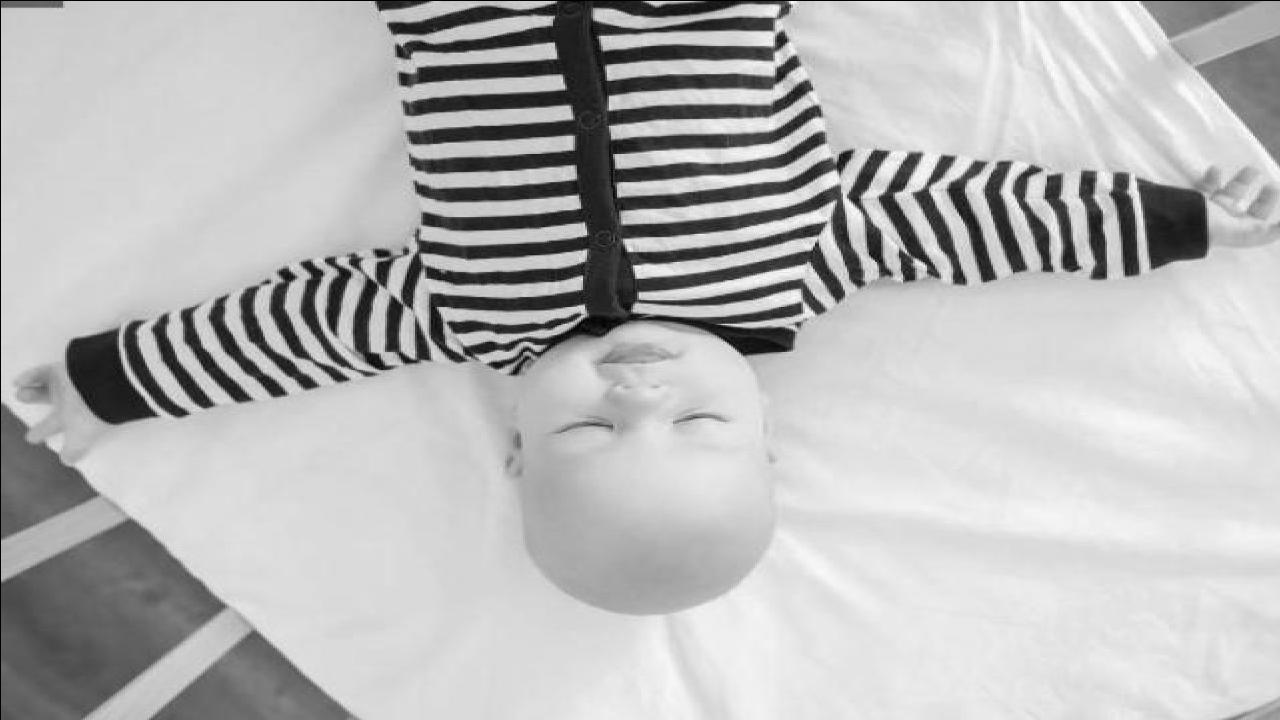hand: (3, 360, 112, 463), (1172, 161, 1280, 255)
